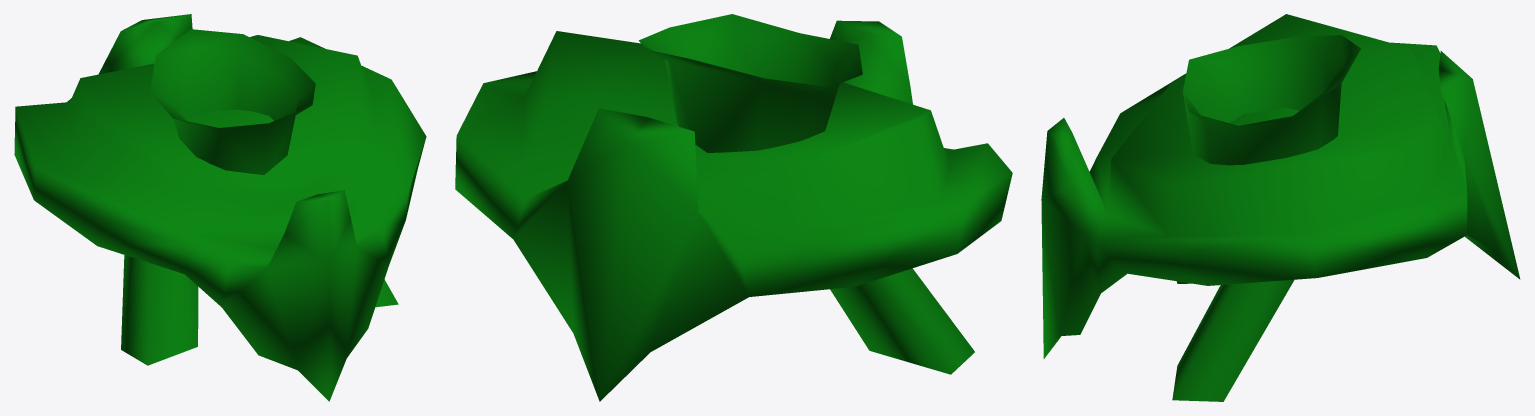
File: butt.obj
3 views of the same model, side by side, from view 1: azimuth 30°, elevation 25°; view 2: azimuth 150°, elevation 25°; view 3: azimuth 270°, elevation 25° (orthographic). The views are drawn at different scales.
Visible parts, largest first — view 1: butt:transformblitzcrank_transformblitzcrank; view 2: butt:transformblitzcrank_transformblitzcrank; view 3: butt:transformblitzcrank_transformblitzcrank.
Part boxes in pixels (left/top/right/bottom): butt:transformblitzcrank_transformblitzcrank: left=14, top=14, right=426, bottom=401; butt:transformblitzcrank_transformblitzcrank: left=455, top=14, right=1012, bottom=401; butt:transformblitzcrank_transformblitzcrank: left=1041, top=14, right=1520, bottom=401.
Size of the model in its own units: 3.73 by 2.71 by 3.79.
